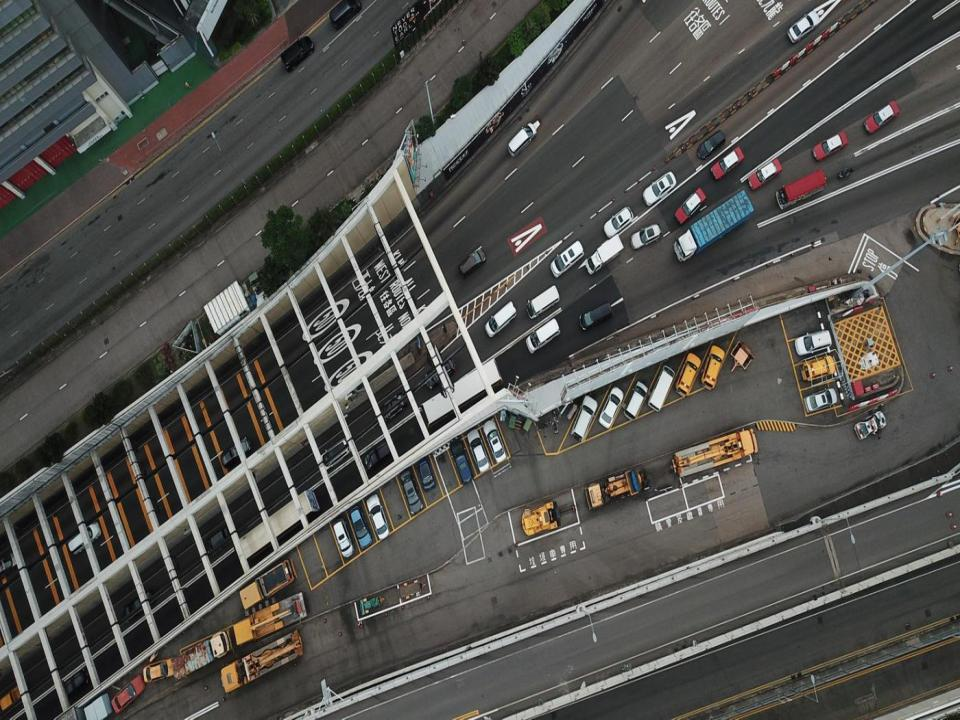bus: (233, 489, 320, 563), (418, 358, 503, 430), (776, 169, 827, 210)
car: (110, 674, 145, 713), (675, 187, 707, 227), (864, 100, 899, 134), (374, 391, 408, 425), (642, 171, 676, 205), (598, 386, 625, 428), (711, 146, 744, 180), (366, 493, 390, 539), (786, 11, 820, 43), (122, 590, 155, 622), (812, 130, 847, 160), (747, 158, 782, 188), (143, 654, 180, 682), (483, 419, 506, 464), (466, 430, 489, 474), (424, 358, 456, 389), (401, 470, 423, 514), (855, 410, 886, 440), (350, 505, 371, 548), (202, 526, 231, 555), (333, 518, 354, 558), (803, 388, 837, 412), (419, 459, 435, 492)
truck: (674, 190, 754, 263), (221, 628, 303, 691), (670, 428, 758, 478), (233, 592, 307, 645), (171, 628, 232, 682), (584, 465, 652, 511), (239, 558, 298, 610), (586, 233, 623, 274)
van: (550, 240, 584, 278), (647, 366, 675, 411), (525, 318, 560, 353), (570, 395, 596, 441), (675, 352, 701, 398), (280, 36, 315, 70), (317, 437, 352, 471), (360, 438, 394, 473), (56, 667, 89, 702), (526, 284, 559, 319), (700, 346, 725, 390), (450, 439, 473, 486), (486, 301, 516, 337), (67, 522, 101, 553), (220, 436, 252, 468), (329, 0, 363, 30), (623, 380, 648, 420), (508, 122, 537, 156), (795, 329, 832, 355), (579, 302, 613, 330), (800, 354, 835, 380), (696, 130, 725, 160), (603, 208, 634, 236), (630, 223, 663, 249), (459, 248, 486, 278), (0, 684, 24, 714), (0, 550, 21, 580)
